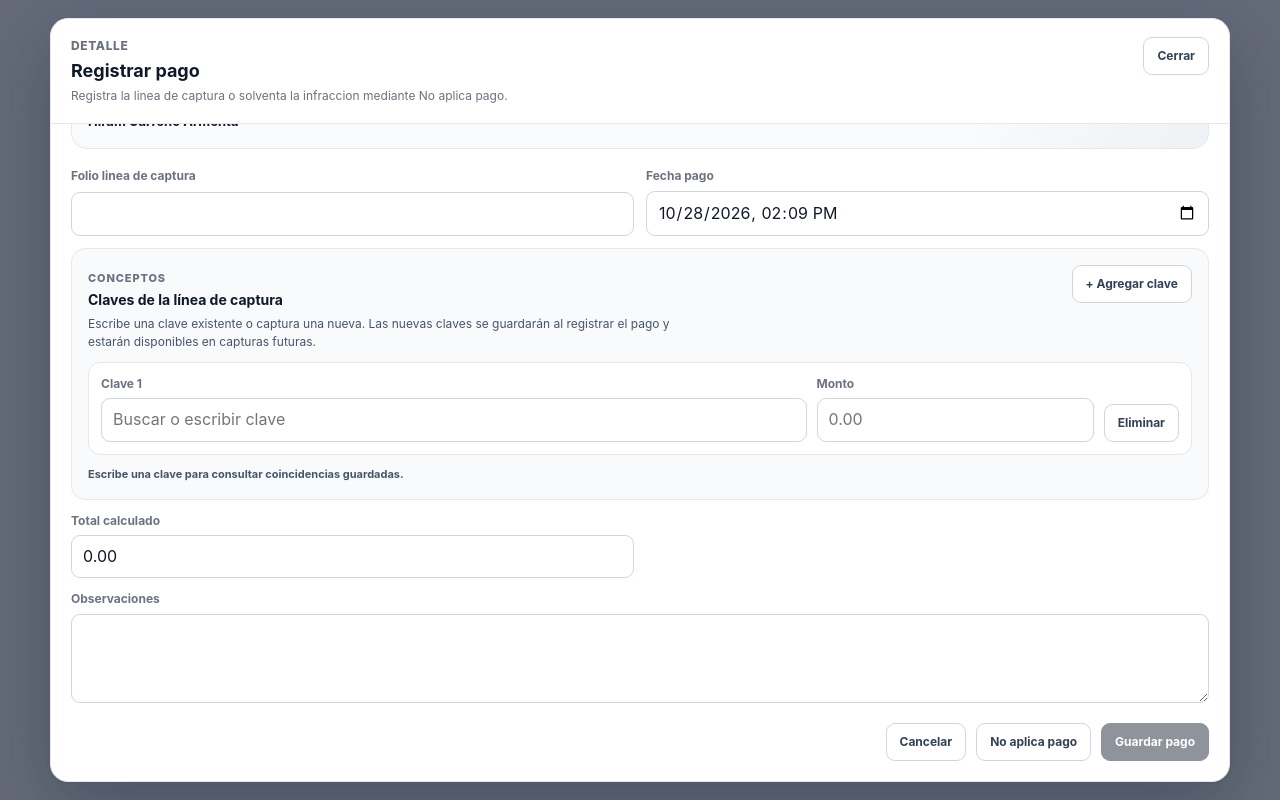
it: InfraccionOperacionModal No aplica pago › muestra No aplica pago en el modal operativo y oculta campos financieros
The width and height of the screenshot is (1280, 800).
(page scrolled)
Expected: the field labelled "Folio linea de captura" is shown, 71,192 -> 634,236
Expected: the element named "Conceptos de la línea de captura" is shown, 71,248 -> 1209,500
What coordinates should you click on to do the following:
click the button "No aplica pago"
I would click on:
 (1034, 742)
Its box is 976,723 -> 1091,761.
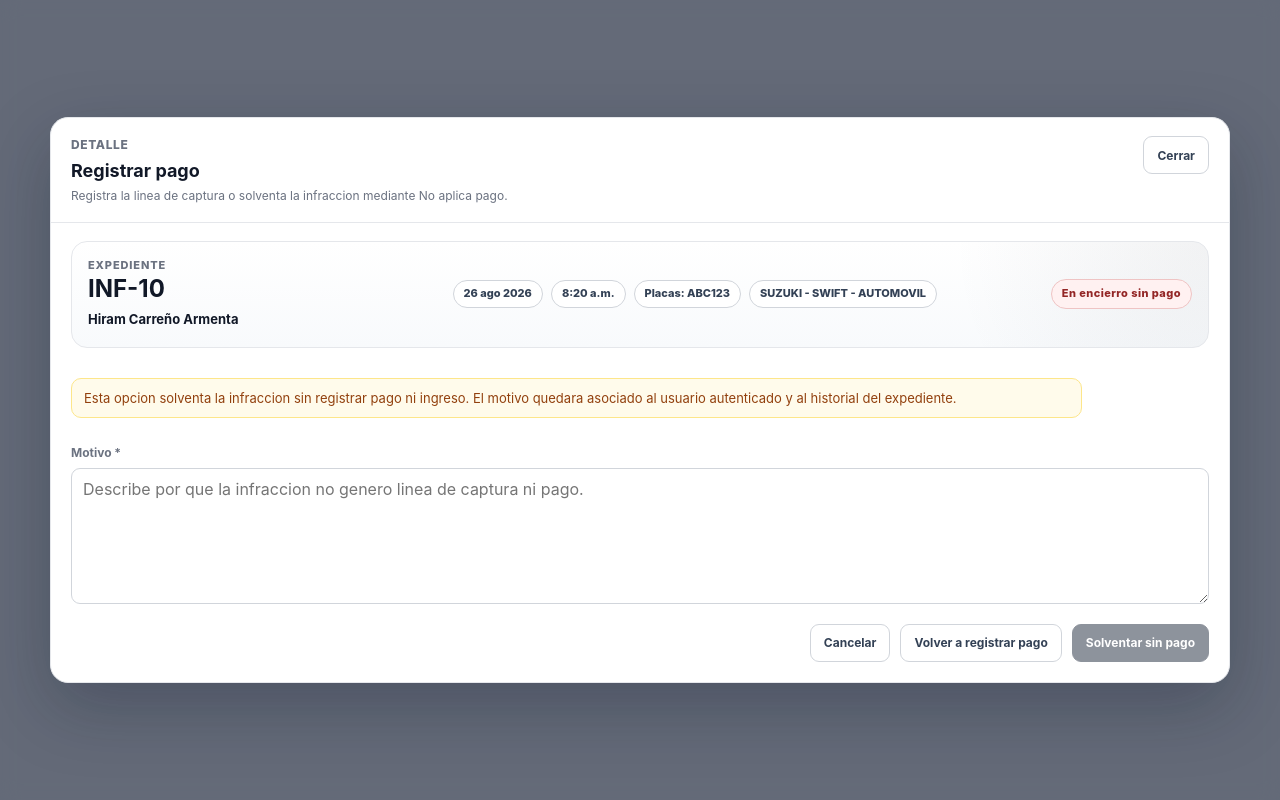
Expected: the button "Solventar sin pago" is disabled, 1072,624 -> 1209,662
Result: the text box labelled "Motivo *" is shown at 71,468 -> 1209,604
Result: the label labelled "Folio linea de captura" is gone
